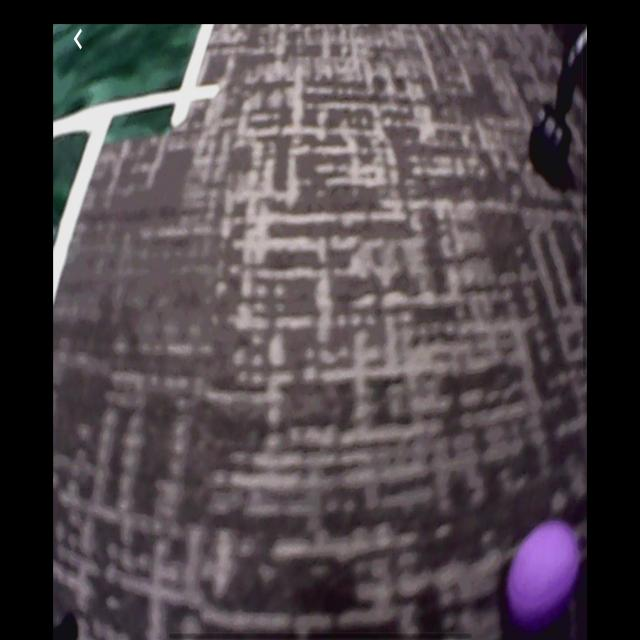ball: (506, 519, 582, 631)
